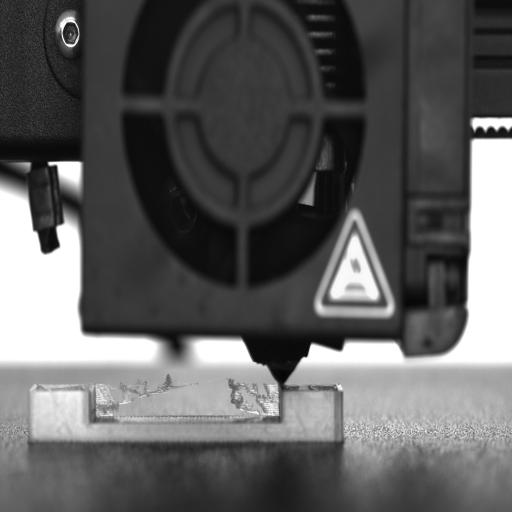spaghetti_and_stringing: (94, 378, 280, 418)
